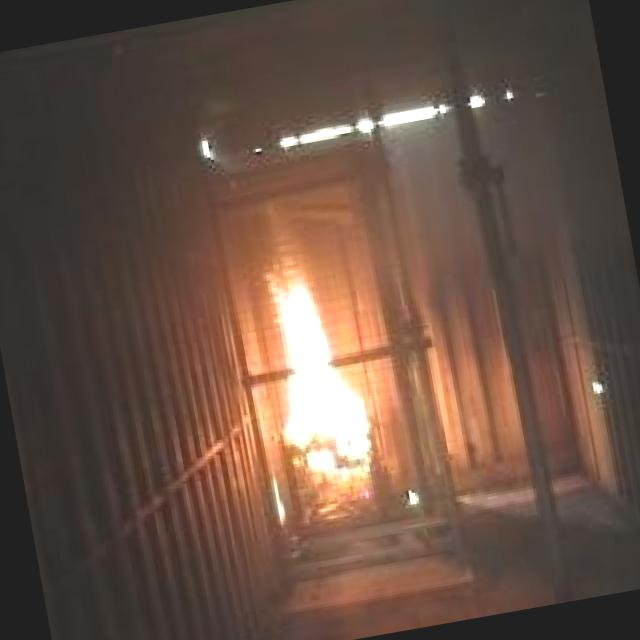fire: (236, 238, 392, 508)
